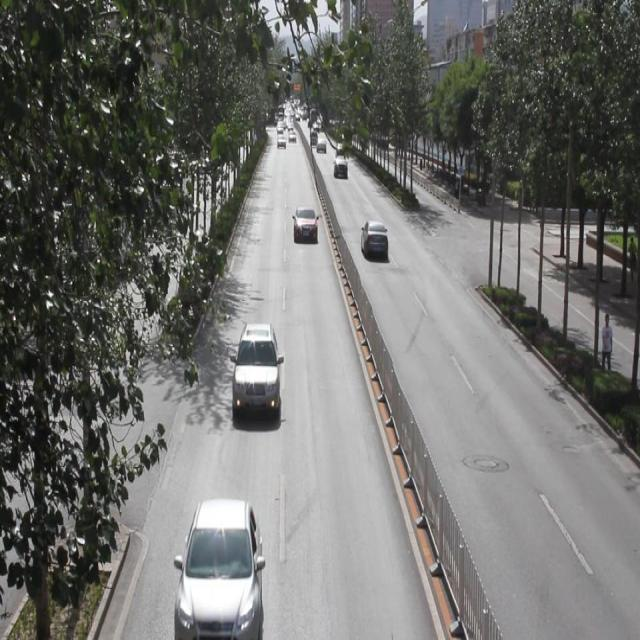car: (174, 499, 262, 640), (232, 321, 281, 420), (360, 219, 390, 261), (293, 205, 317, 243), (332, 156, 348, 178), (316, 135, 327, 153), (335, 141, 345, 159), (276, 133, 286, 149), (287, 130, 296, 144)
truck: (308, 129, 318, 145)
